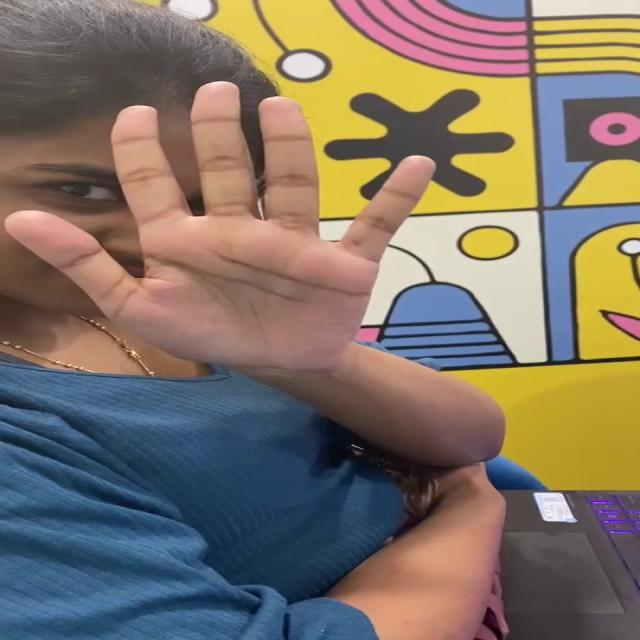no-gloves: (0, 69, 448, 397)
